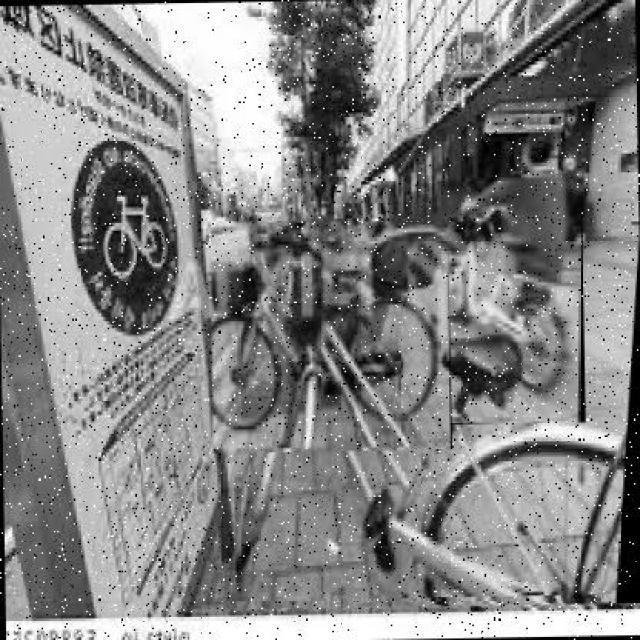bicycle: (229, 235, 640, 613), (206, 218, 452, 455), (436, 180, 587, 428)
